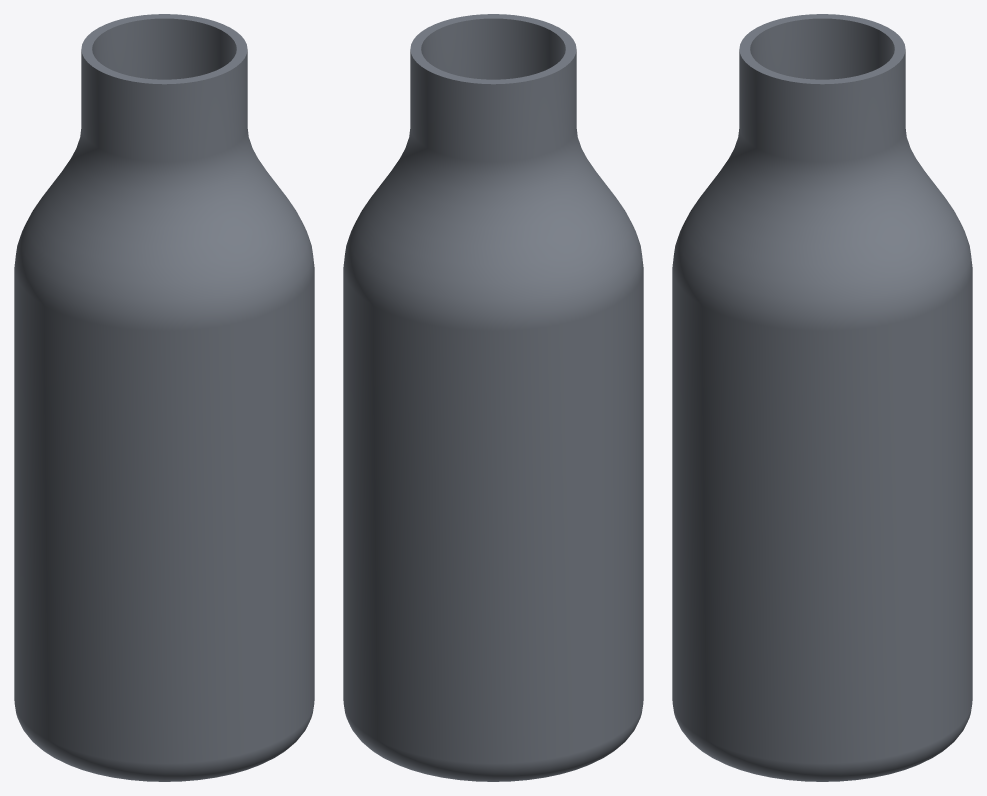
The model's file is jar_tall.obj.
3 renders of one model, left to right at view 1: azimuth 30°, elevation 25°; view 2: azimuth 150°, elevation 25°; view 3: azimuth 270°, elevation 25°, orthographic.
Visible parts, largest first — view 1: jar_tall; view 2: jar_tall; view 3: jar_tall.
Boxes of the visible parts, x1,y1,x2,y2 form: jar_tall: (14, 14, 314, 781); jar_tall: (343, 14, 643, 781); jar_tall: (672, 14, 972, 781).
Size of the model in its own units: 0.112 by 0.28 by 0.112.
Materials: 1 (1 with a texture image).
